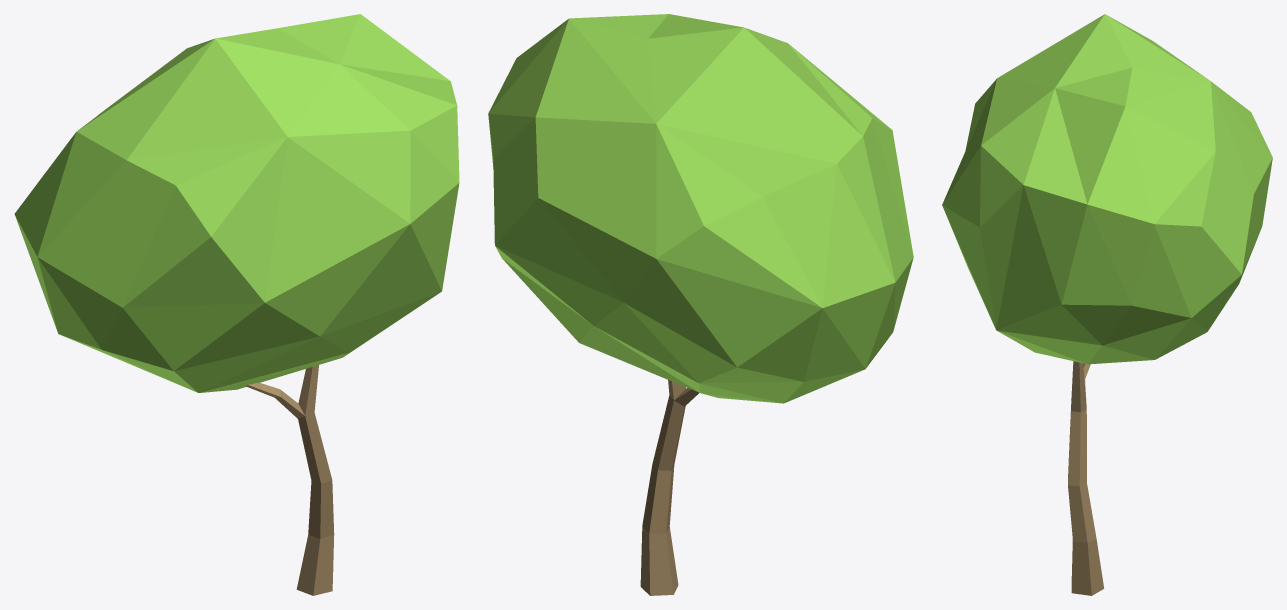
The model's file is Apple_Tree_m_BT_01.fbx.
The picture shows the model from 3 angles, left to right: view 1: azimuth 30°, elevation 25°; view 2: azimuth 150°, elevation 25°; view 3: azimuth 270°, elevation 25°; orthographic projection. The views are drawn at different scales.
Visible parts, largest first — view 1: Apple_Tree_m_BT_01; view 2: Apple_Tree_m_BT_01; view 3: Apple_Tree_m_BT_01.
Part boxes in pixels (left/top/right/bottom): Apple_Tree_m_BT_01: left=14, top=14, right=459, bottom=595; Apple_Tree_m_BT_01: left=488, top=14, right=913, bottom=595; Apple_Tree_m_BT_01: left=942, top=14, right=1272, bottom=595.
Size of the model in its own units: 539 by 749 by 421.
